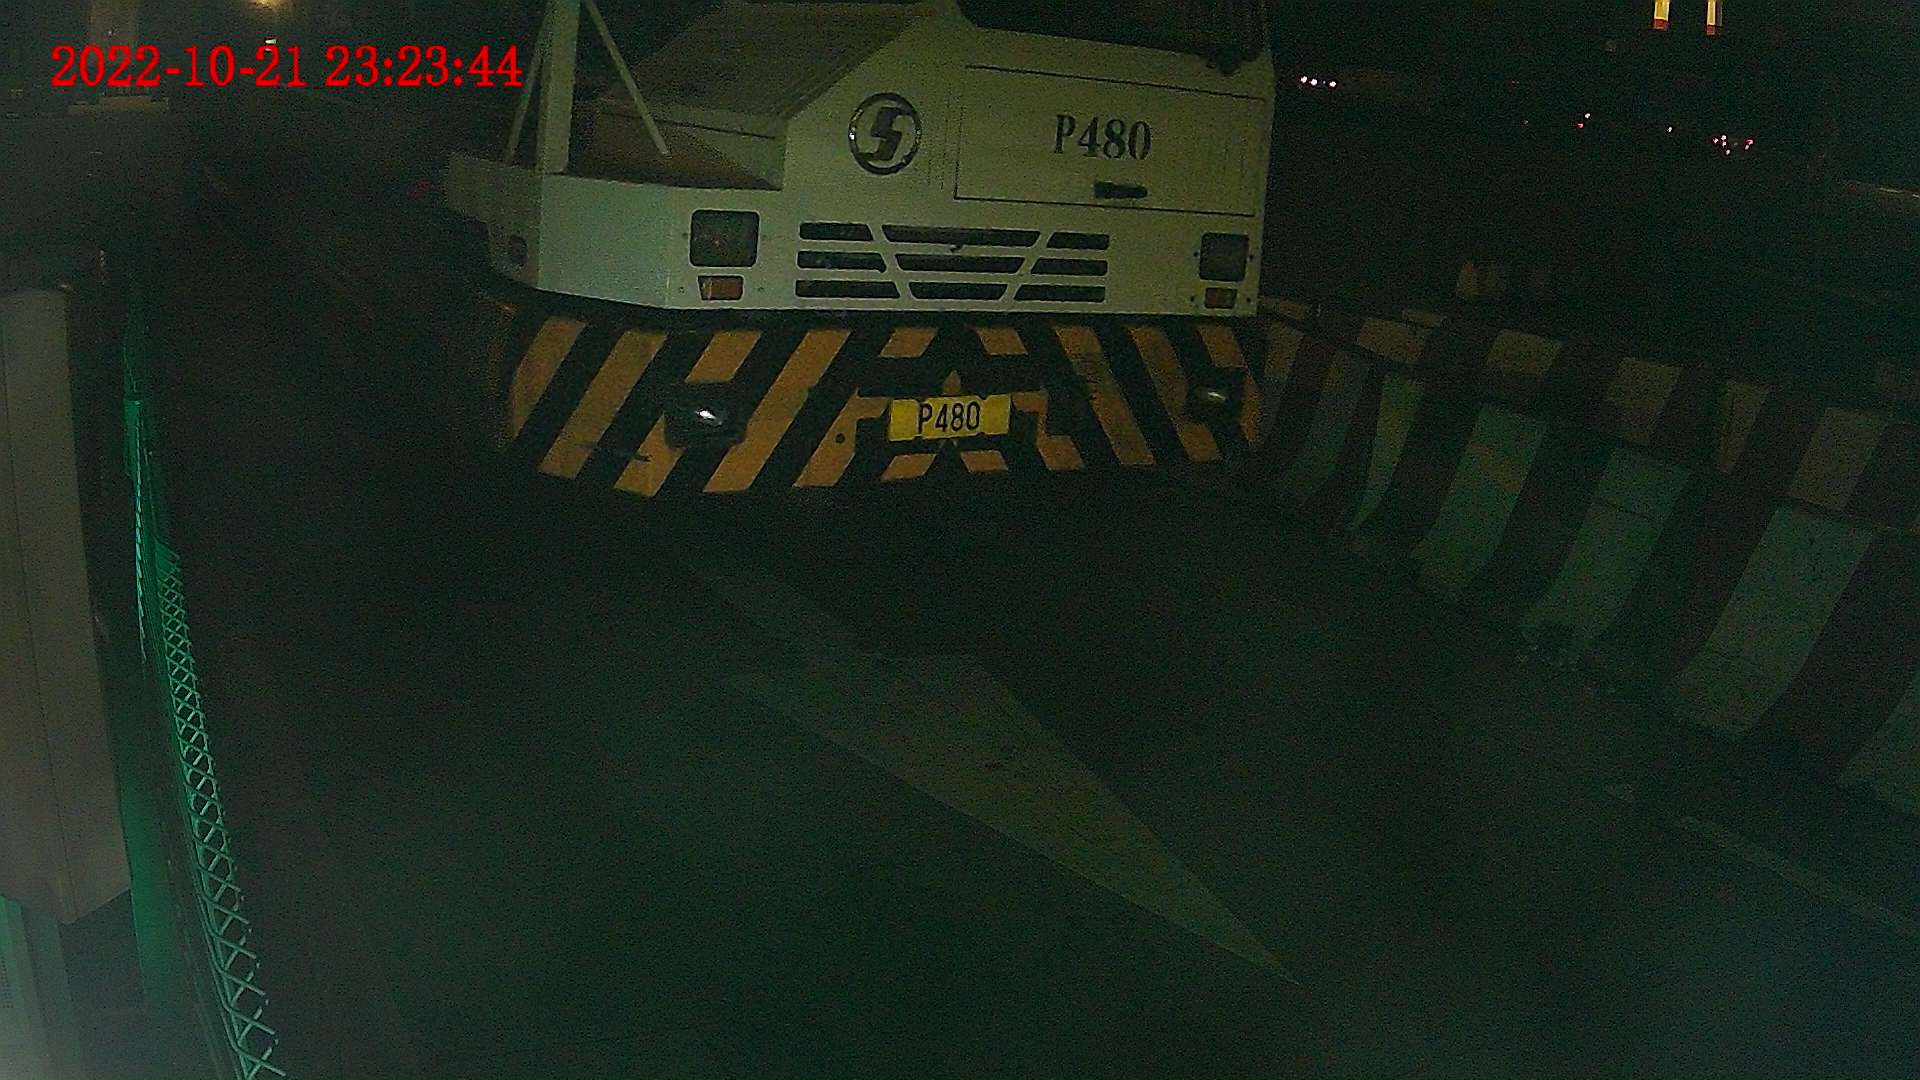head: (413, 1, 1270, 524)
plate: (888, 395, 1013, 435)
